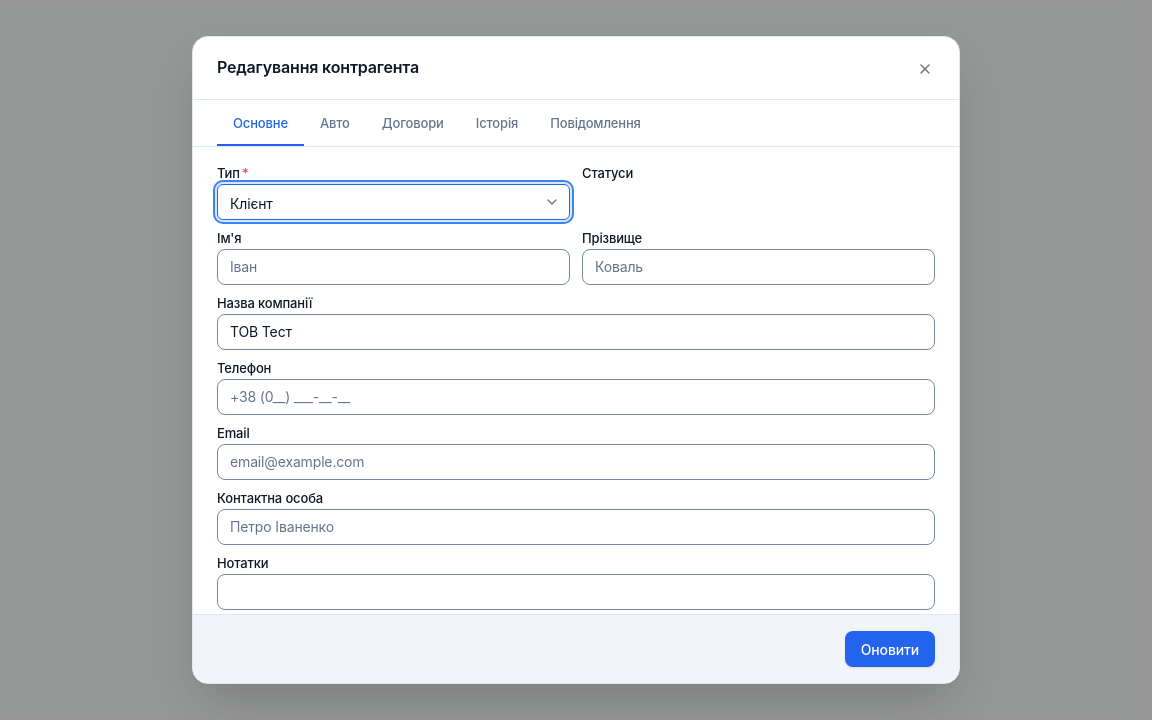
Test: CounterpartyEditModal — «Вид договору» за типом контрагента (BR-CP-005) › CLIENT → у списку лише SALE, він же обраний за замовчуванням; поле редаговане
What coordinates should you click on to do the following:
click the button "Договори"
I would click on:
 (413, 125)
Its box is x1=366 y1=104 x2=460 y2=146.
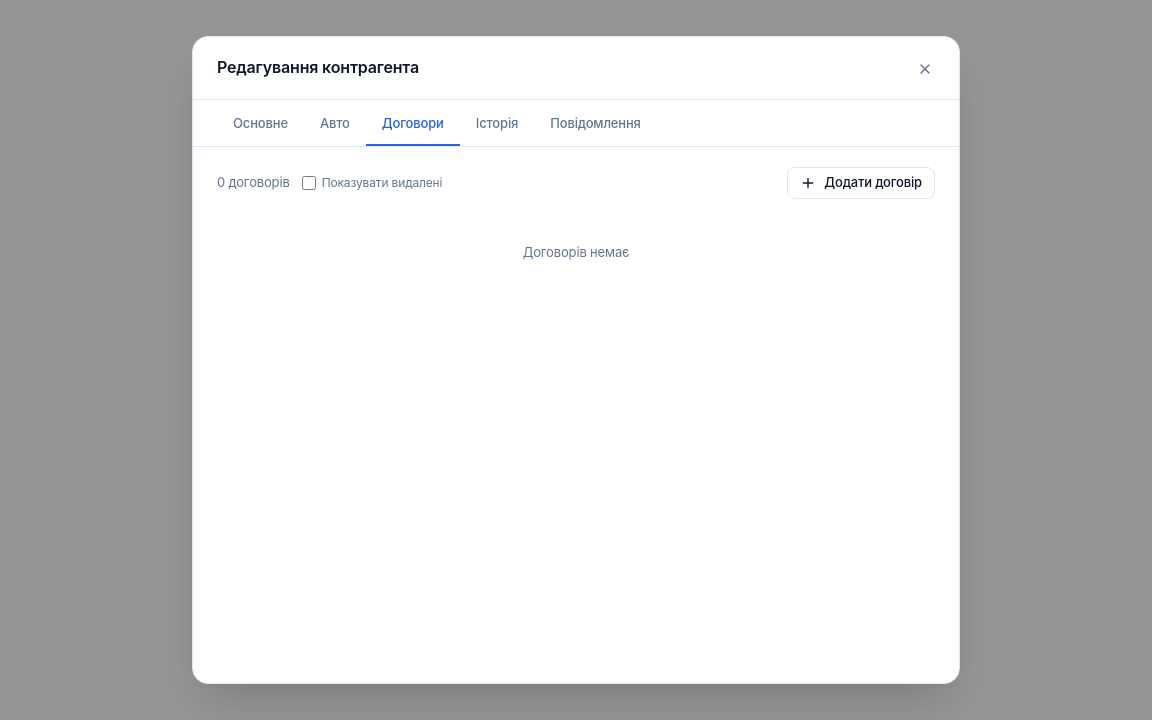
Now the button "Додати договір" is shown
What coordinates should you click on to do the following:
click the button "Додати договір"
I would click on:
 (861, 182)
Its box is x1=787 y1=166 x2=935 y2=198.
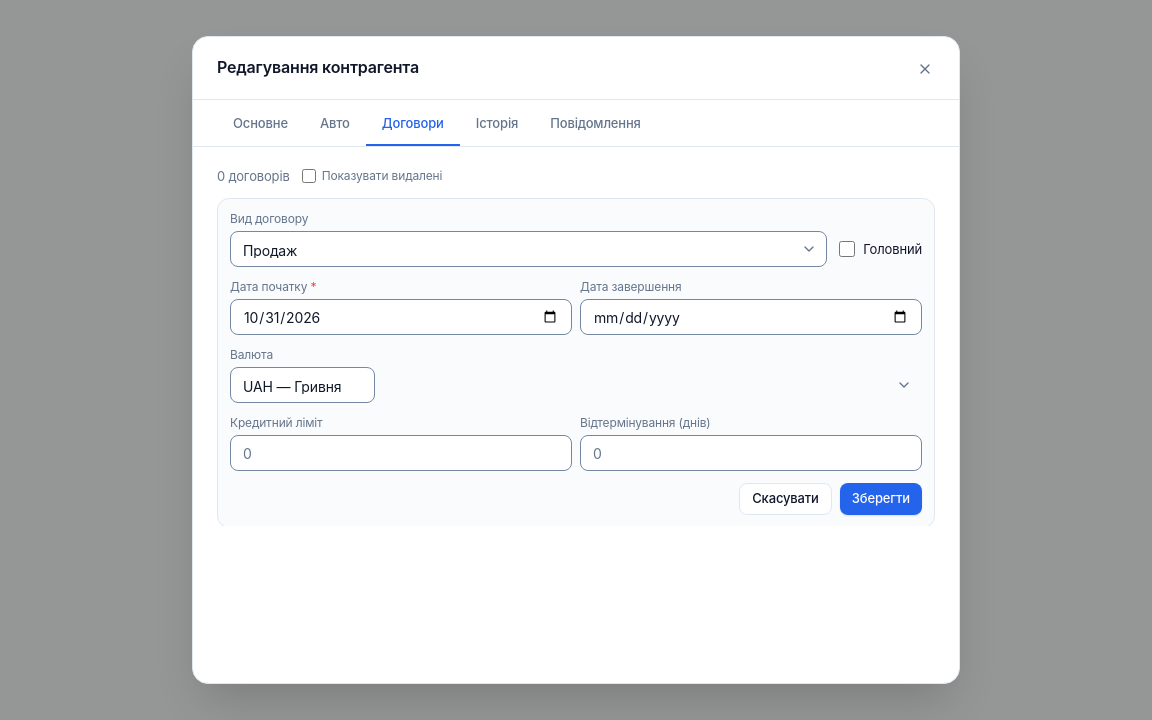
Now the dropdown below "Вид договору" shows "Продаж", box x1=230 y1=231 x2=827 y2=267
Now the dropdown below "Вид договору" is enabled, box x1=230 y1=231 x2=827 y2=267
Now the button "Зберегти" is enabled, box x1=840 y1=483 x2=922 y2=515
